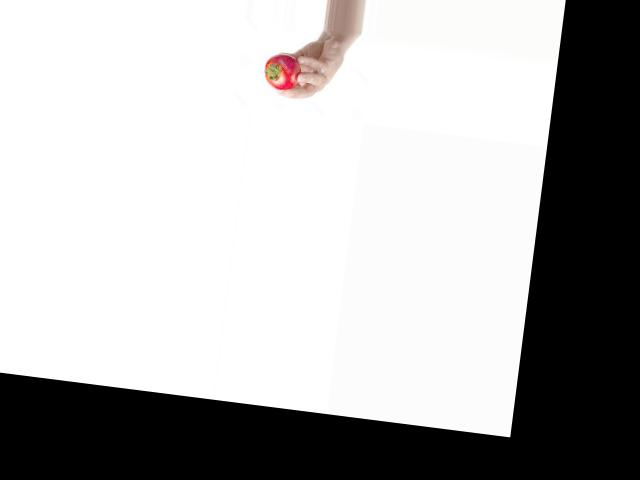tomato: (262, 51, 302, 91)
